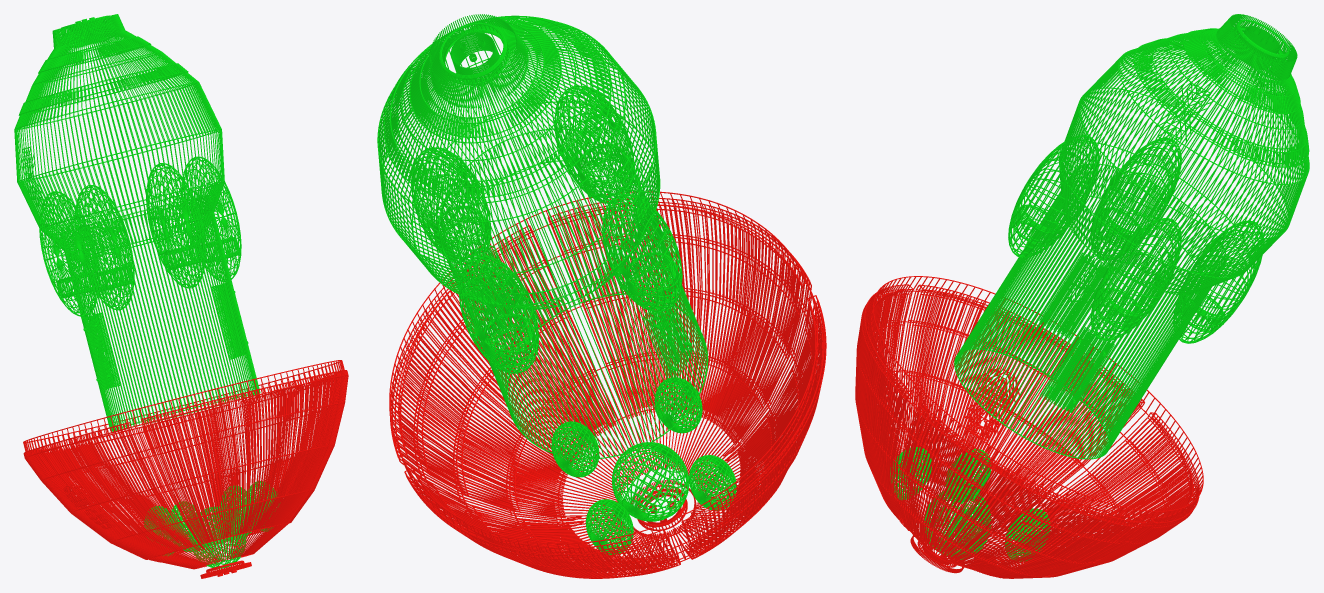
File: warp-generator-highlight-warp-field-generator.glb
3 renders of one model, left to right at view 1: azimuth 30°, elevation 25°; view 2: azimuth 150°, elevation 25°; view 3: azimuth 270°, elevation 25°, orthographic. The views are drawn at different scales.
Parts seen in each view (by area): view 1: warp-field-generator technical wire, flux-capacitor-and-energy-ducts technical wire, chassis technical wire, energy-flow-monitoring technical wire; view 2: warp-field-generator technical wire, flux-capacitor-and-energy-ducts technical wire, chassis technical wire, energy-flow-monitoring technical wire; view 3: warp-field-generator technical wire, flux-capacitor-and-energy-ducts technical wire, chassis technical wire, energy-flow-monitoring technical wire.
Boxes of the visible parts, bbox=[...] form: warp-field-generator technical wire: bbox=[23, 360, 348, 578]; flux-capacitor-and-energy-ducts technical wire: bbox=[14, 14, 241, 316]; chassis technical wire: bbox=[59, 195, 260, 431]; energy-flow-monitoring technical wire: bbox=[144, 481, 279, 568]; warp-field-generator technical wire: bbox=[389, 191, 826, 578]; flux-capacitor-and-energy-ducts technical wire: bbox=[377, 14, 682, 373]; chassis technical wire: bbox=[438, 128, 708, 459]; energy-flow-monitoring technical wire: bbox=[551, 377, 736, 554]; warp-field-generator technical wire: bbox=[855, 276, 1203, 578]; flux-capacitor-and-energy-ducts technical wire: bbox=[1008, 14, 1309, 343]; chassis technical wire: bbox=[954, 163, 1226, 459]; energy-flow-monitoring technical wire: bbox=[890, 447, 1050, 561].
Size of the model in its own units: 1.3 by 2.03 by 1.53.
